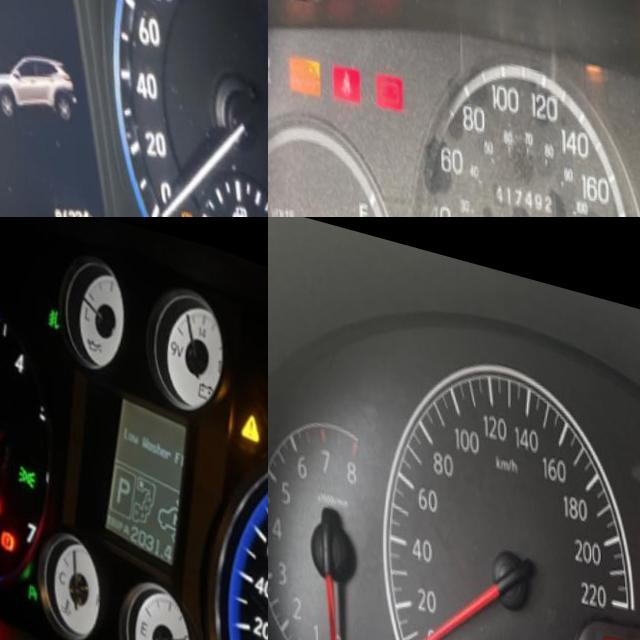Central Warning lamp: (237, 387, 264, 427)
Low fuel level: (174, 173, 199, 217)
Seat Belt: (337, 58, 356, 92)
